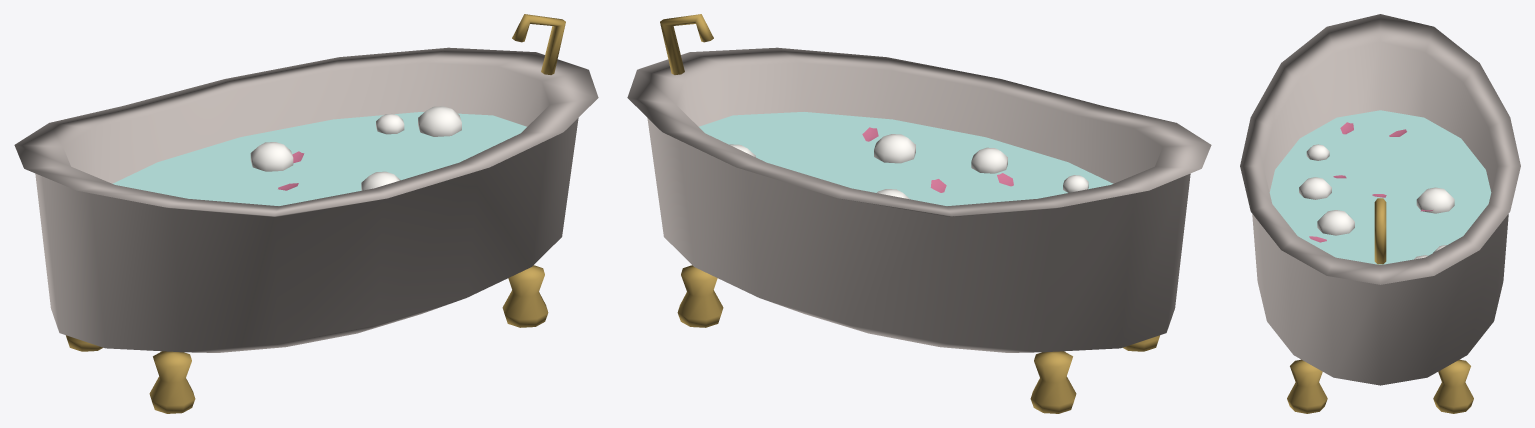
Rendered from bathtub_clawfoot.glb.
The picture shows the model from 3 angles, left to right: view 1: azimuth 30°, elevation 25°; view 2: azimuth 150°, elevation 25°; view 3: azimuth 270°, elevation 25°; orthographic projection. The views are drawn at different scales.
Parts seen in each view (by area): view 1: bathtub_clawfoot; view 2: bathtub_clawfoot; view 3: bathtub_clawfoot.
Part boxes in pixels (x1,y1,x2,y2): bathtub_clawfoot: (14,14,598,413); bathtub_clawfoot: (627,14,1211,413); bathtub_clawfoot: (1240,14,1520,413).
Size of what is drawn, in the model's own units: 1.8 by 0.8 by 0.9.
